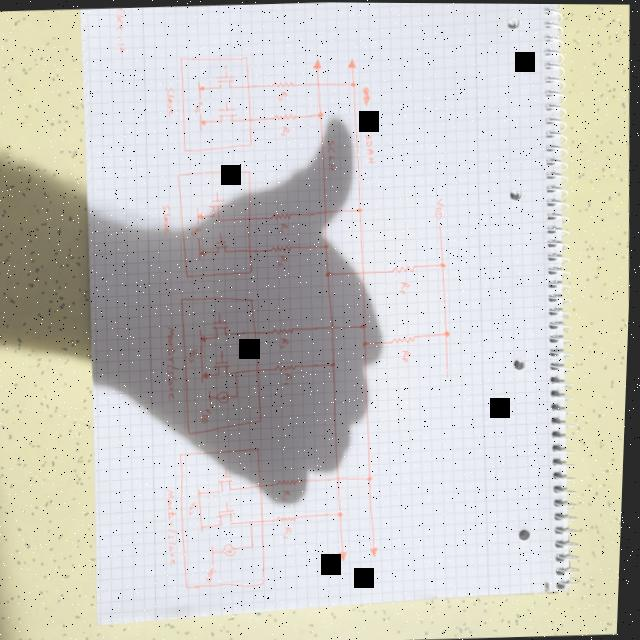crossover: (330, 322, 338, 331), (314, 80, 322, 88), (337, 475, 345, 481), (360, 268, 367, 274), (323, 208, 329, 215)
junction: (444, 328, 454, 337), (439, 259, 449, 268), (338, 509, 347, 518), (316, 108, 324, 117), (325, 269, 334, 277), (199, 118, 208, 126), (196, 83, 205, 91), (369, 473, 377, 481), (356, 206, 364, 214), (349, 79, 357, 87), (252, 542, 259, 549), (332, 359, 338, 367), (363, 339, 369, 346), (362, 322, 368, 329), (200, 488, 206, 495), (324, 242, 330, 248), (203, 523, 209, 529), (251, 519, 257, 525), (214, 547, 219, 553), (235, 369, 239, 375), (236, 393, 240, 398), (210, 394, 214, 398)
resistor: (273, 110, 298, 122), (392, 333, 419, 344), (393, 262, 419, 273), (269, 78, 294, 88), (270, 209, 292, 220), (273, 324, 295, 335), (277, 513, 301, 523), (272, 242, 293, 253), (279, 475, 300, 486), (276, 362, 298, 372)
source: (203, 370, 211, 379), (201, 334, 208, 342), (200, 249, 207, 257), (198, 212, 204, 220)
terminal: (199, 328, 206, 385), (200, 486, 207, 532), (208, 389, 216, 407), (213, 542, 219, 564), (197, 237, 203, 259), (372, 545, 383, 556), (347, 56, 357, 68), (340, 550, 351, 560), (312, 57, 320, 69), (198, 112, 203, 131), (196, 206, 201, 224), (197, 80, 202, 98), (220, 348, 226, 352), (219, 230, 225, 234), (224, 99, 230, 103), (227, 499, 232, 503), (215, 190, 220, 194), (219, 311, 223, 315), (227, 465, 231, 469), (224, 63, 228, 67)
text: (166, 484, 184, 569), (164, 324, 183, 403), (326, 136, 339, 170), (364, 133, 378, 163), (164, 86, 176, 116), (162, 203, 174, 231), (434, 197, 446, 219), (400, 280, 414, 294), (283, 372, 296, 386), (208, 567, 219, 583), (202, 408, 214, 422), (190, 500, 200, 516), (277, 222, 290, 234), (286, 524, 297, 538), (194, 99, 205, 113), (402, 347, 412, 361), (275, 90, 289, 100), (190, 348, 200, 362), (279, 253, 289, 267), (280, 337, 291, 349), (283, 488, 294, 499), (191, 225, 203, 235), (281, 125, 291, 135)
transistor: (209, 196, 231, 223), (213, 71, 237, 92), (218, 506, 241, 527), (217, 105, 239, 125), (220, 472, 239, 493), (215, 356, 234, 377), (213, 318, 232, 339), (214, 238, 232, 254)
